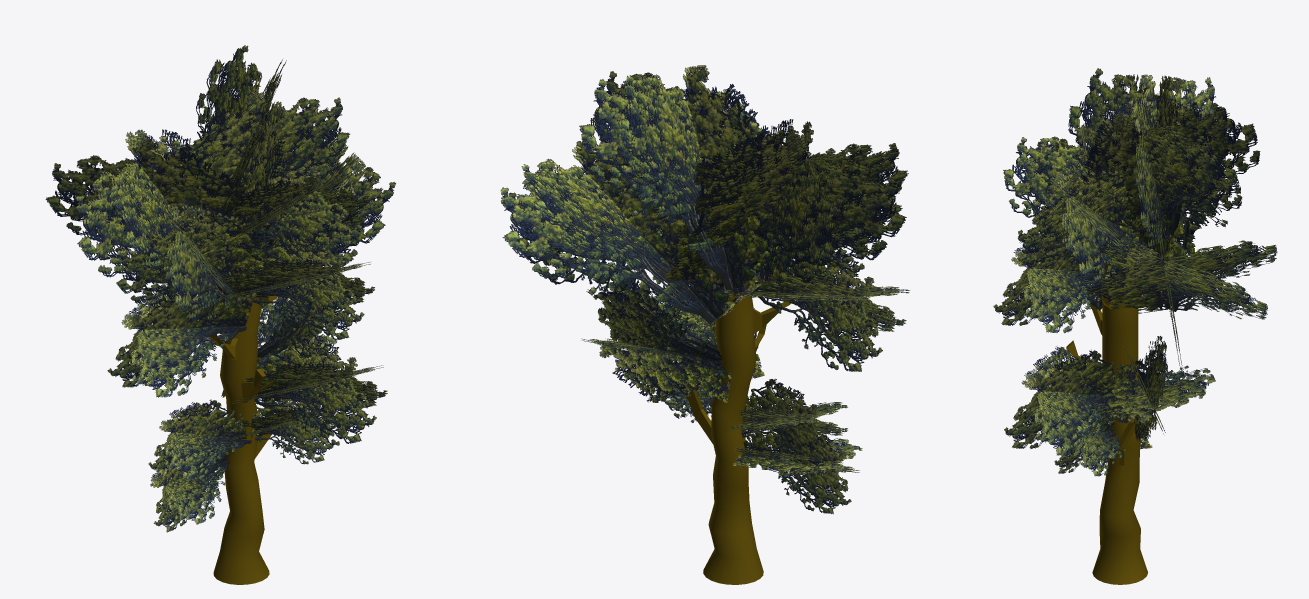
File: png_tree.fbx
The picture shows the model from 3 angles, left to right: view 1: azimuth 30°, elevation 25°; view 2: azimuth 150°, elevation 25°; view 3: azimuth 270°, elevation 25°; orthographic projection. The views are drawn at different scales.
Visible parts, largest first — view 1: pPlane16; view 2: pPlane16; view 3: pPlane16.
Boxes of the visible parts, left/top/right/bottom form: pPlane16: left=45, top=45, right=395, bottom=584; pPlane16: left=500, top=65, right=909, bottom=584; pPlane16: left=993, top=68, right=1277, bottom=584.
Bounding box in the file's own units: 26.19 × 32.64 × 18.08.
Materials: 2 (1 with a texture image).
